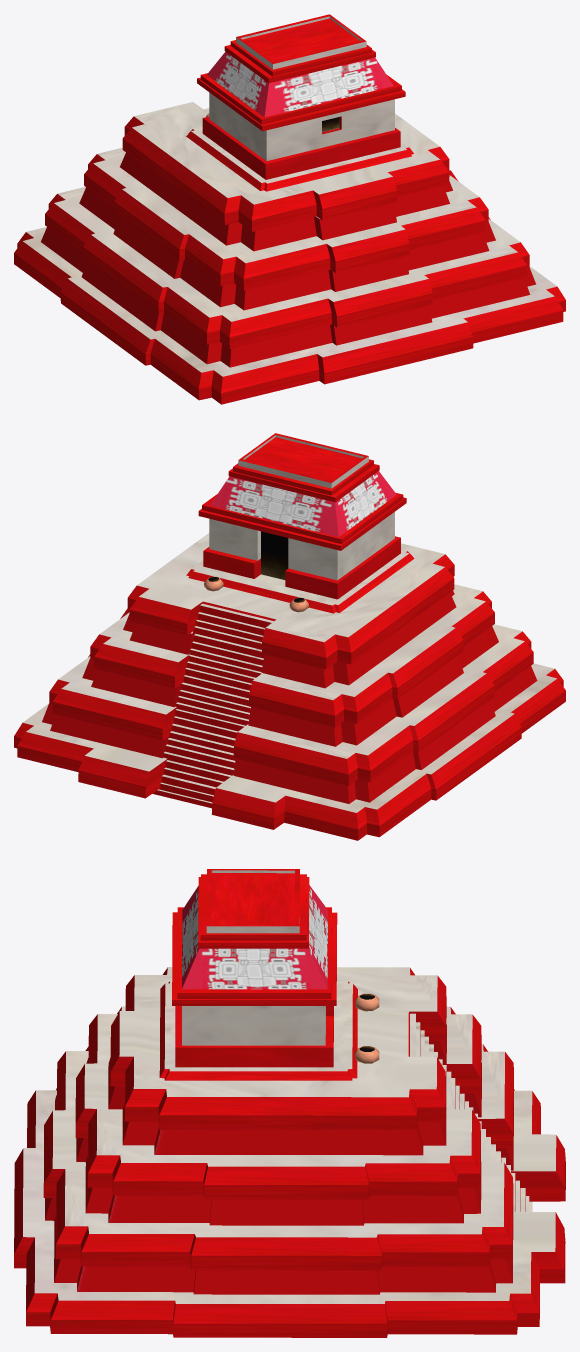
File: piramide_2.dae
3 renders of one model, top to bottom at view 1: azimuth 30°, elevation 25°; view 2: azimuth 150°, elevation 25°; view 3: azimuth 270°, elevation 25°, orthographic. The views are drawn at different scales.
Visible parts, largest first — view 1: p_2; view 2: p_2; view 3: p_2.
Boxes of the visible parts, bbox=[...] form: p_2: bbox=[14, 14, 565, 404]; p_2: bbox=[14, 433, 565, 840]; p_2: bbox=[14, 869, 565, 1337].
Bounding box in the file's own units: 57.02 × 57.58 × 38.18.
